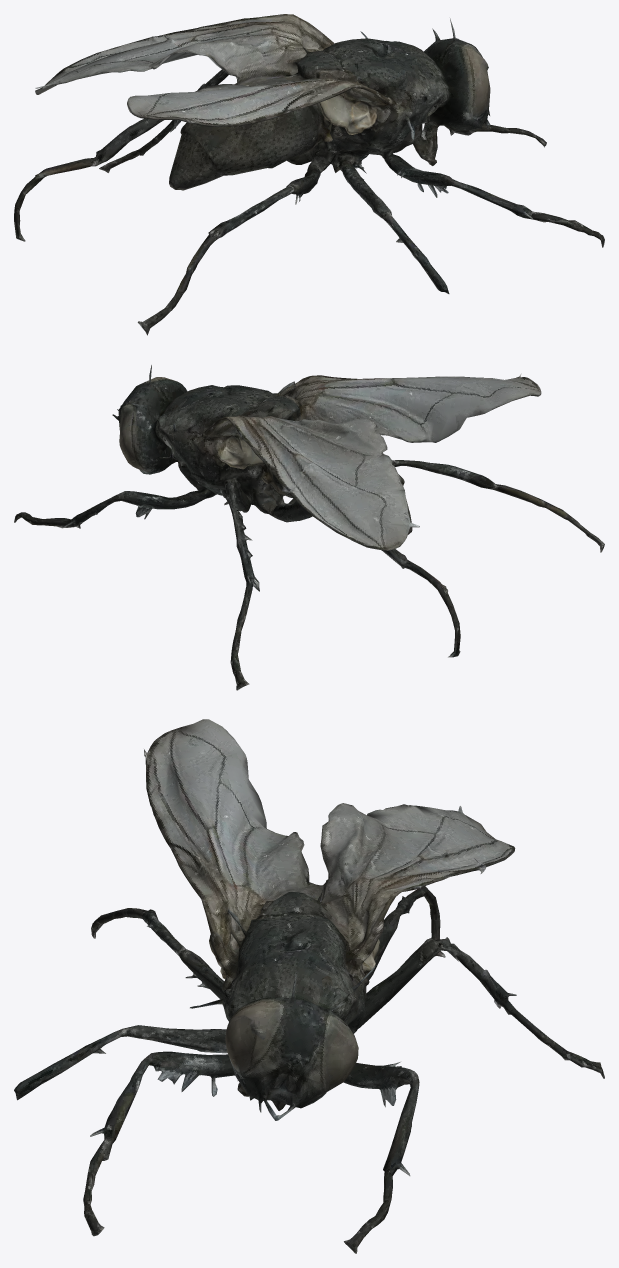
Rendered from cc0-housefly.glb.
The picture shows the model from 3 angles, top to bottom: view 1: azimuth 30°, elevation 25°; view 2: azimuth 150°, elevation 25°; view 3: azimuth 270°, elevation 25°; orthographic projection. The views are drawn at different scales.
Parts seen in each view (by area): view 1: Object_2; view 2: Object_2; view 3: Object_2.
Boxes of the visible parts, bbox=[...] form: Object_2: bbox=[14, 14, 604, 335]; Object_2: bbox=[14, 365, 604, 690]; Object_2: bbox=[14, 719, 604, 1253].
Size of the model in its own units: 8.37 by 3.55 by 6.9.
Materials: 1 (1 with a texture image).
